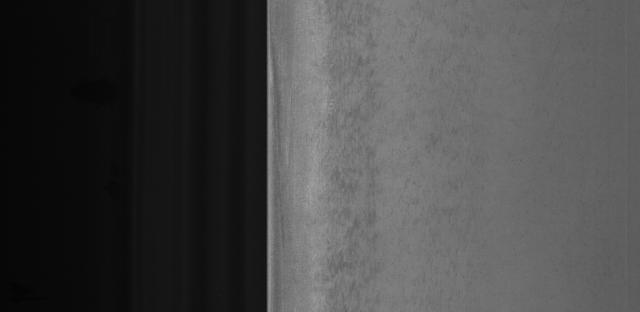silk_spot: (326, 32, 388, 294)
